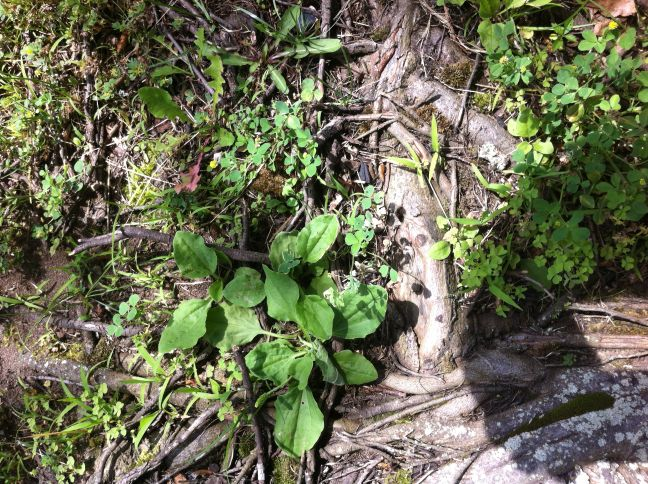weed1: (258, 222, 389, 457), (155, 228, 265, 360)
